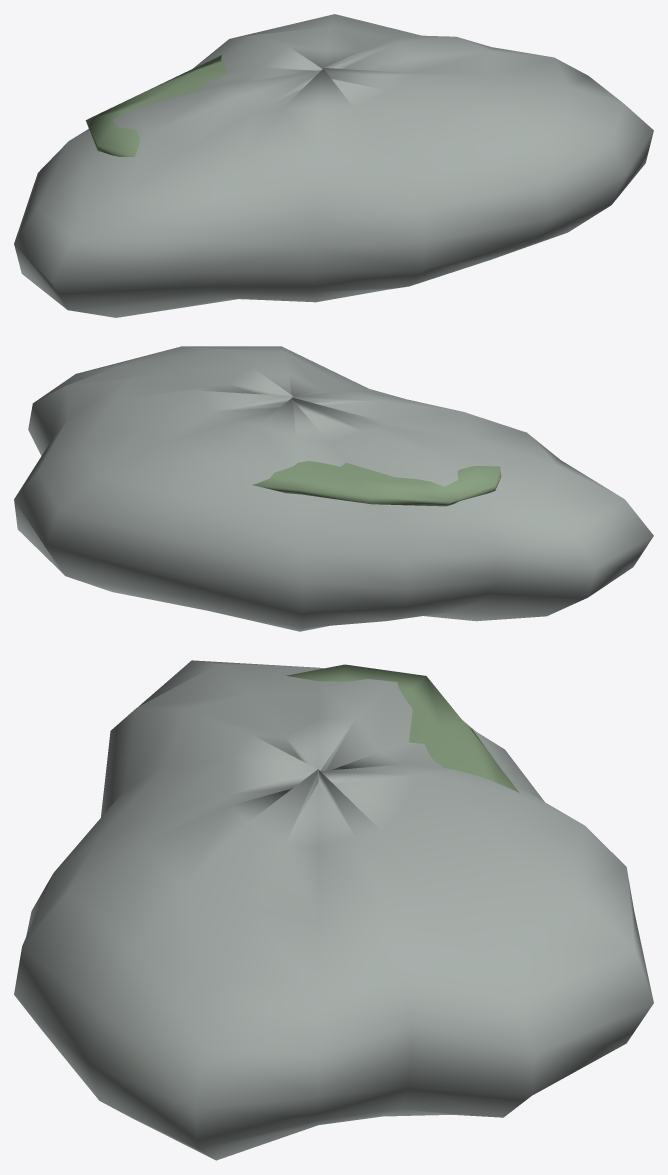
Rendered from SM_Rock_01_UV_0923.fbx.
3 views of the same model, one above another, from view 1: azimuth 30°, elevation 25°; view 2: azimuth 150°, elevation 25°; view 3: azimuth 270°, elevation 25° (orthographic). The views are drawn at different scales.
Visible parts, largest first — view 1: SM_Rock_01_UV_0923; view 2: SM_Rock_01_UV_0923; view 3: SM_Rock_01_UV_0923.
Part boxes in pixels (bbox=[...]): SM_Rock_01_UV_0923: bbox=[14, 14, 653, 317]; SM_Rock_01_UV_0923: bbox=[14, 346, 653, 631]; SM_Rock_01_UV_0923: bbox=[14, 660, 653, 1160].
Size of the model in its own units: 127 by 82.32 by 40.35.
